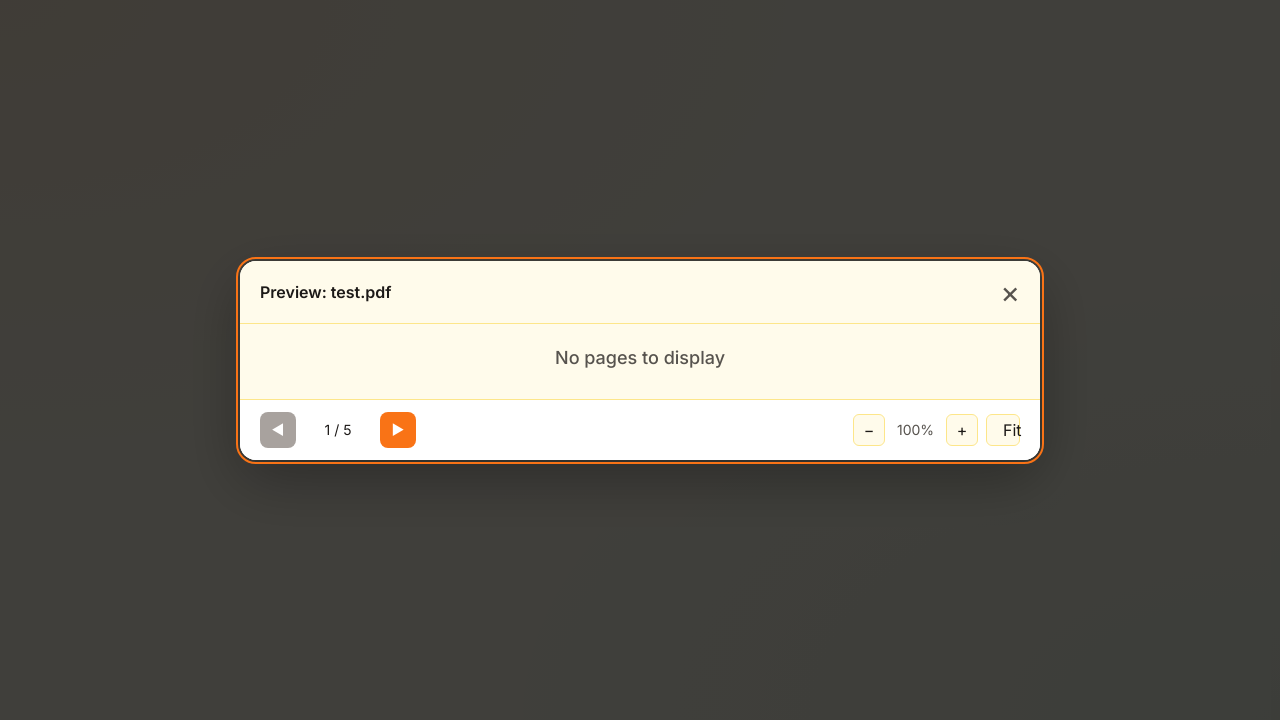
PreviewModal › clicking previous page button navigates back
The width and height of the screenshot is (1280, 720).
expect the text "1 / 5" is shown: met, box [324,421,351,438]
Press ArrowRight
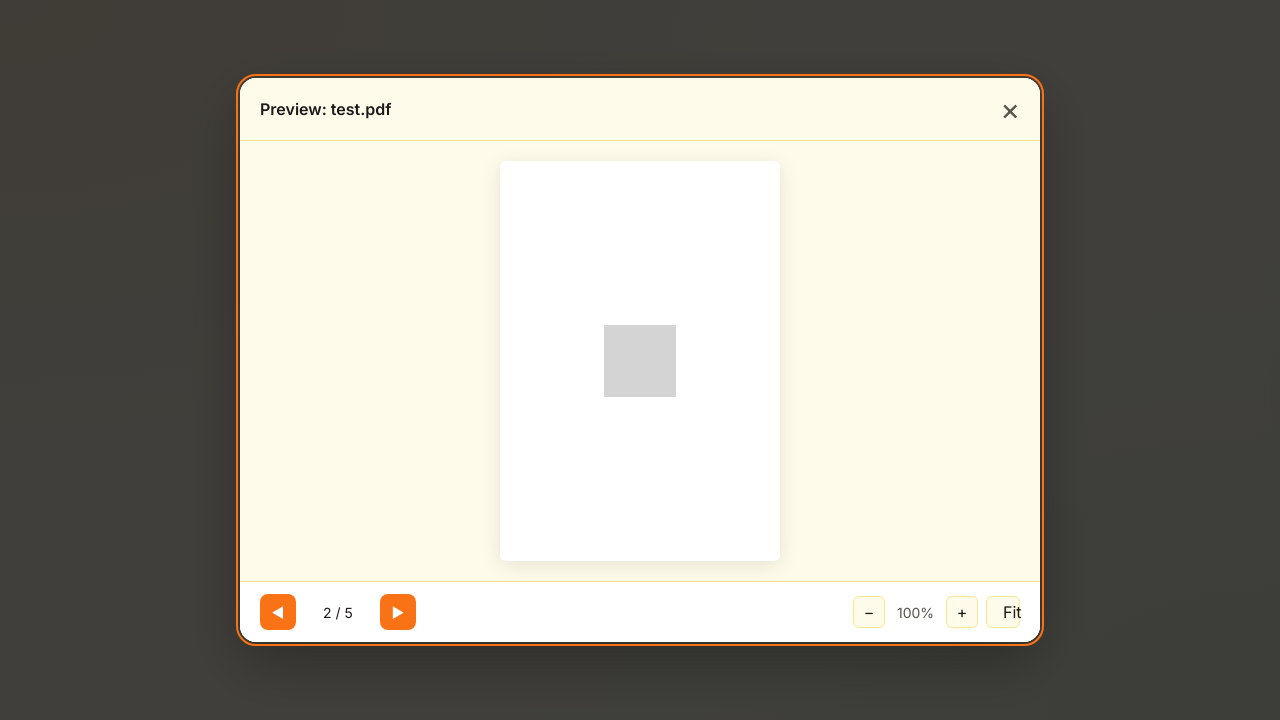
expect the text "2 / 5" is shown: met, box [323,604,353,620]
Click the button named "Previous page" at (278, 612), box [260,594,296,630]
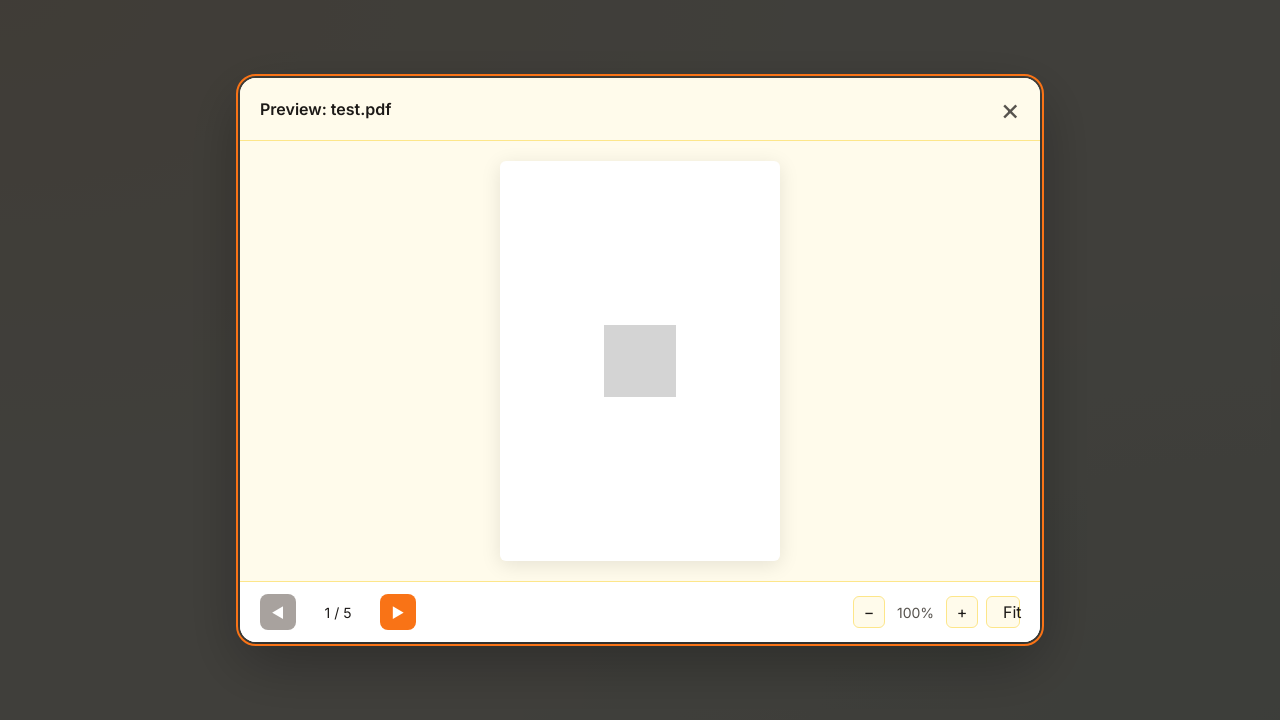
expect the text "1 / 5" is shown: met, box [324,604,351,620]
